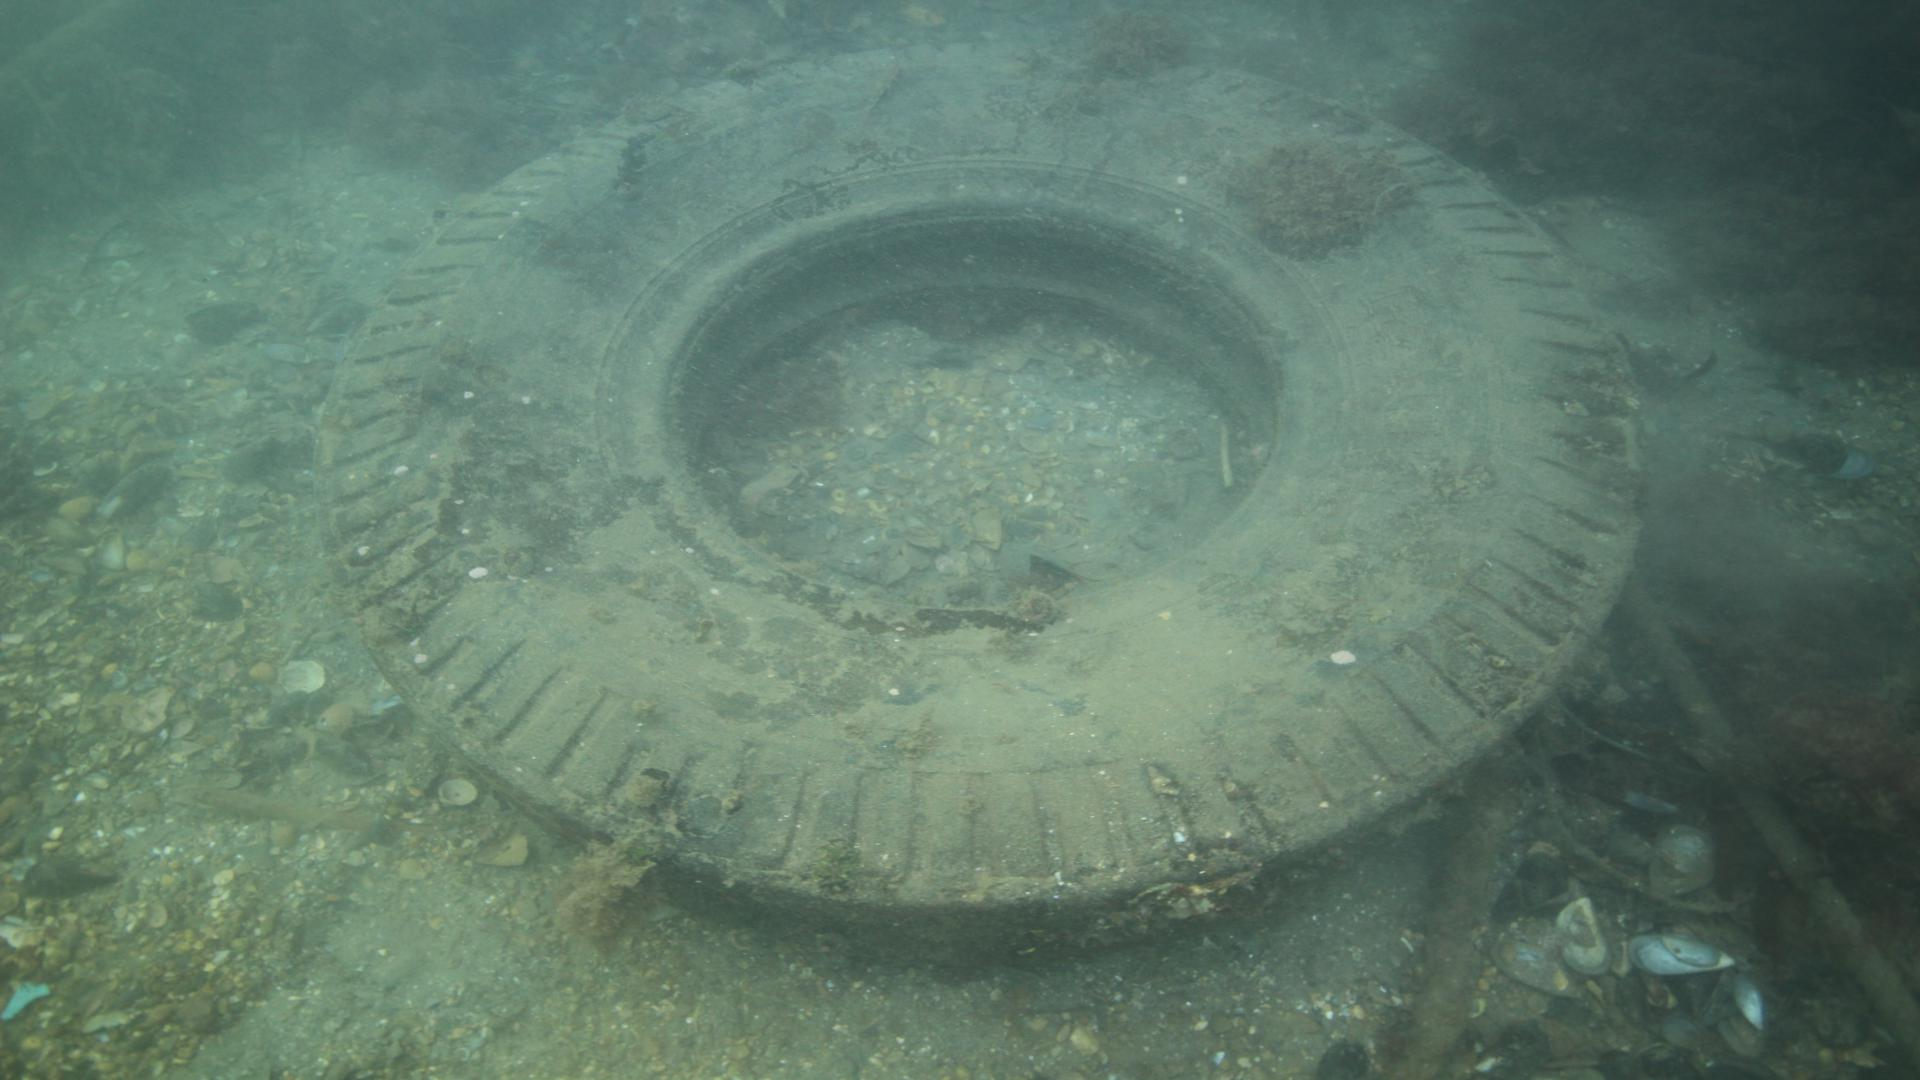tire: (314, 44, 1651, 976)
